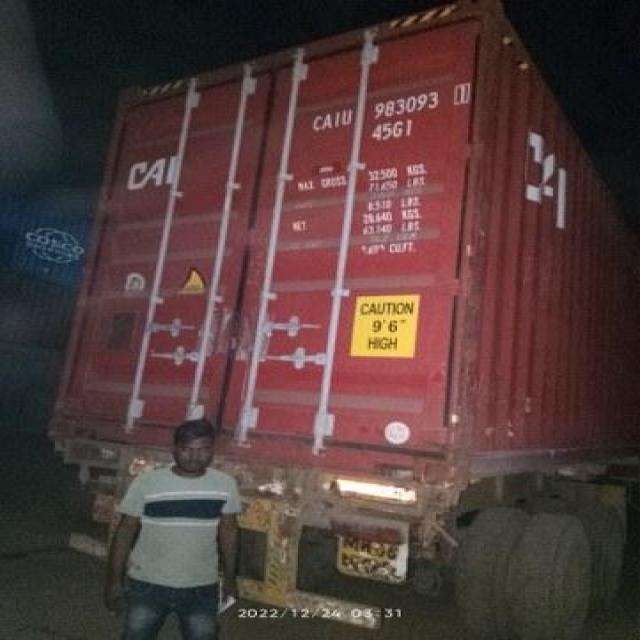ISO: (372, 118, 412, 141)
container_number: (318, 82, 473, 115)
